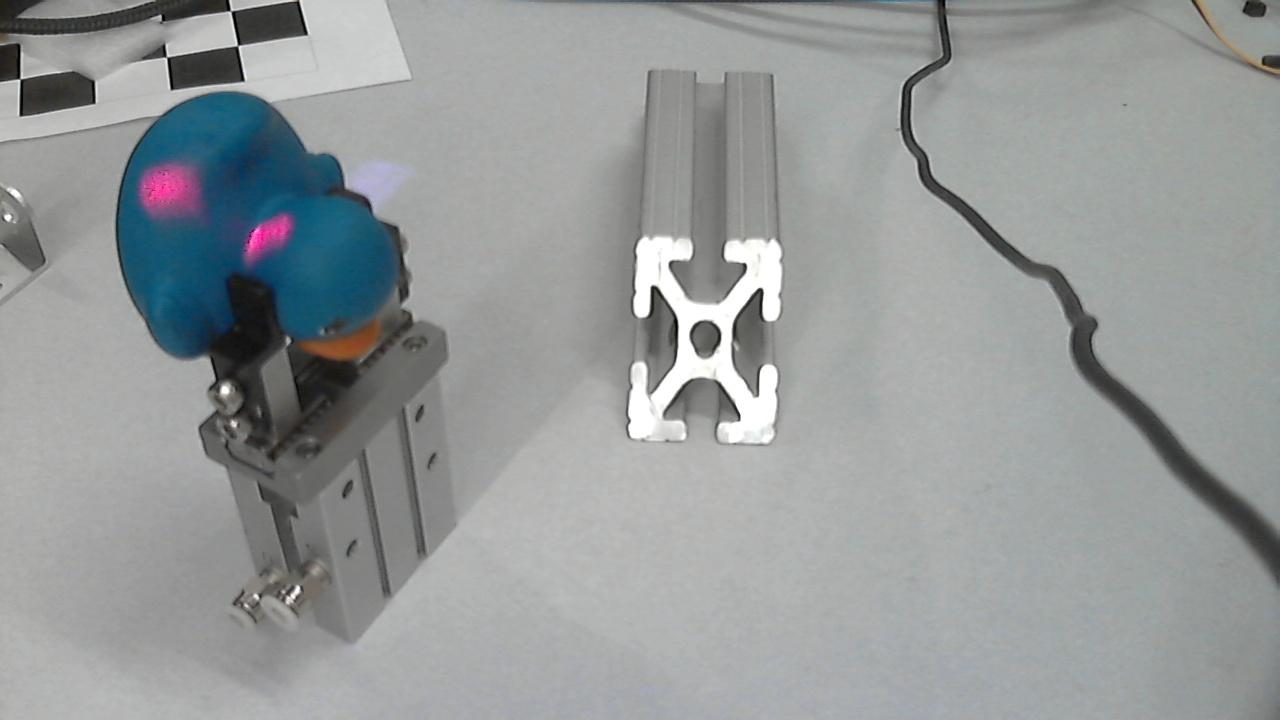Object rubber duck - Material rubber -Color blue - Pdfname BWuUnwTLudUE: (128, 163, 307, 263)
